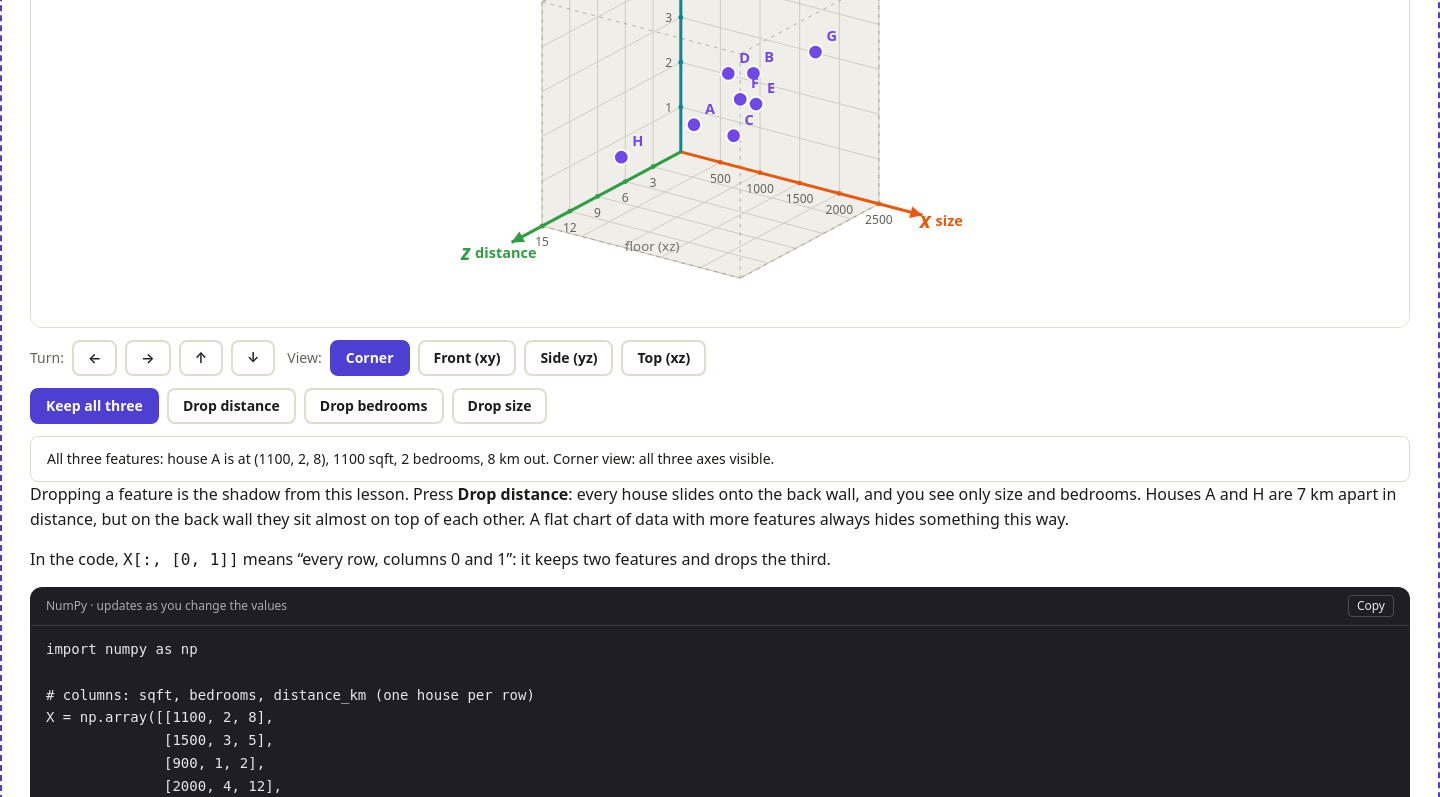
running example: houses in the room › renders the section; dropping distance updates the text and the code
The image size is (1440, 797).
(page scrolled)
Check: the text "house A is at (1100, 2, 8), 1100 sqft, 2 bedrooms, 8 km out." is shown, box [47,449,549,468]
Check: the text "size" is shown, box [936,210,963,230]
Click the button "Drop distance" at (231, 406), box [167,388,296,424]
(page scrolled)
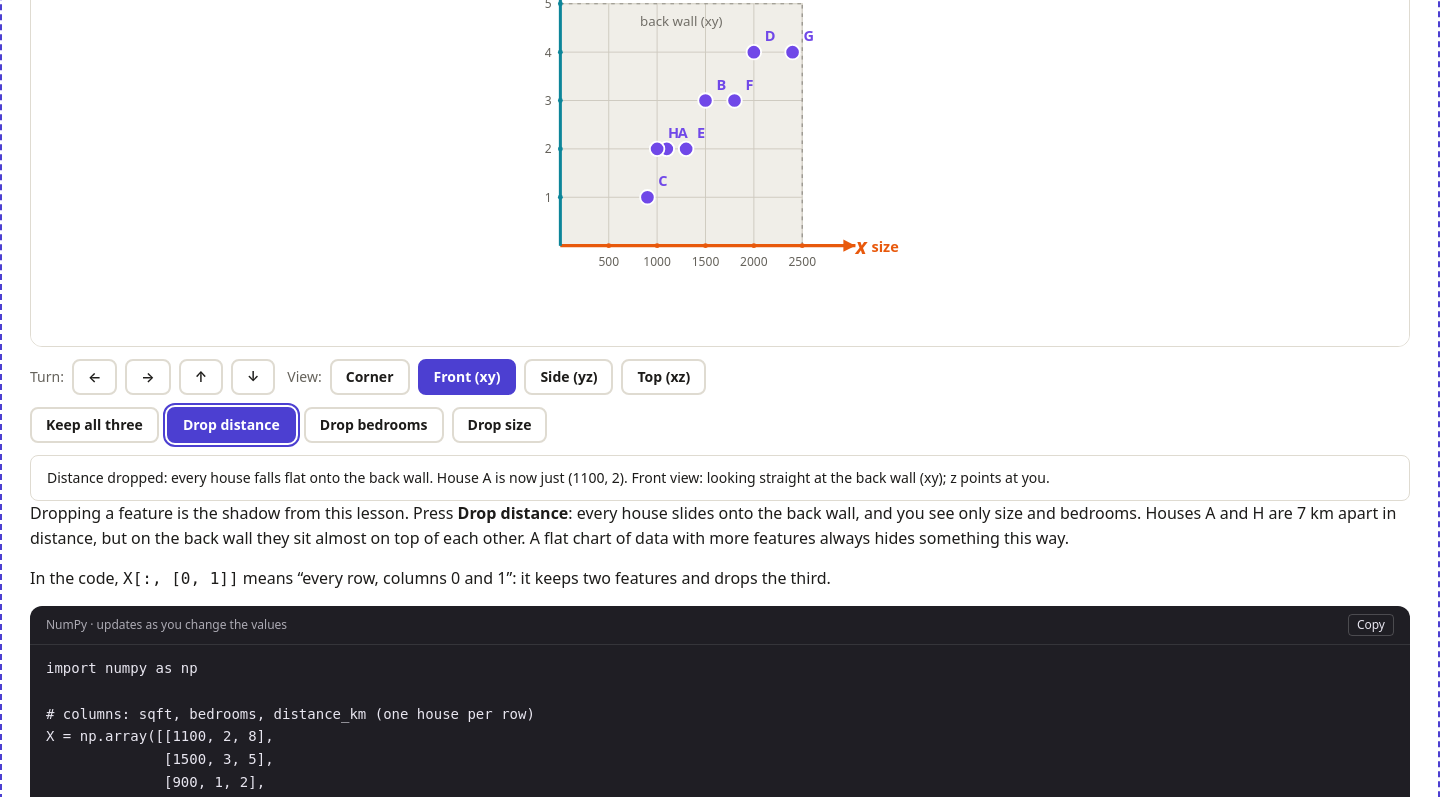
Check: the text "Houses A and H are 7 km apart in distance" is shown, box [30,501,1410,552]
Check: the text "Distance dropped: every house falls flat onto the back wall. House A is now just (1100, 2)." is shown, box [47,468,628,487]
Check: the text "Front view" is shown, box [631,468,1050,487]
